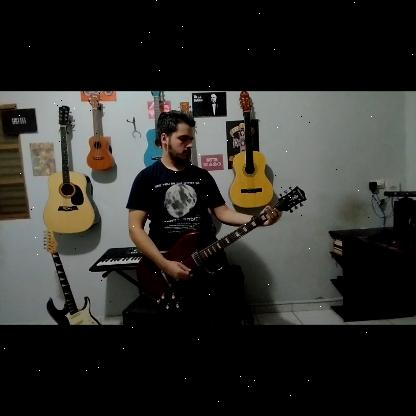acousticguitar: (44, 104, 96, 235), (228, 92, 274, 210), (144, 91, 168, 167)
guitar: (136, 188, 304, 312), (44, 226, 102, 326)
